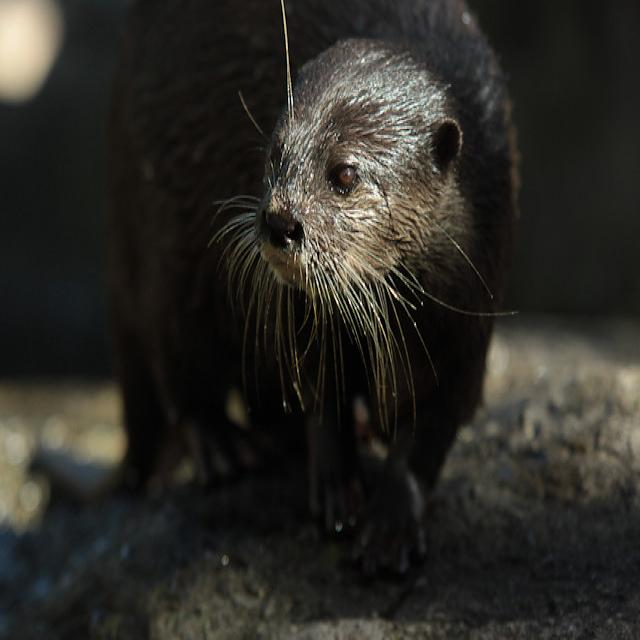otter: (255, 39, 468, 312)
